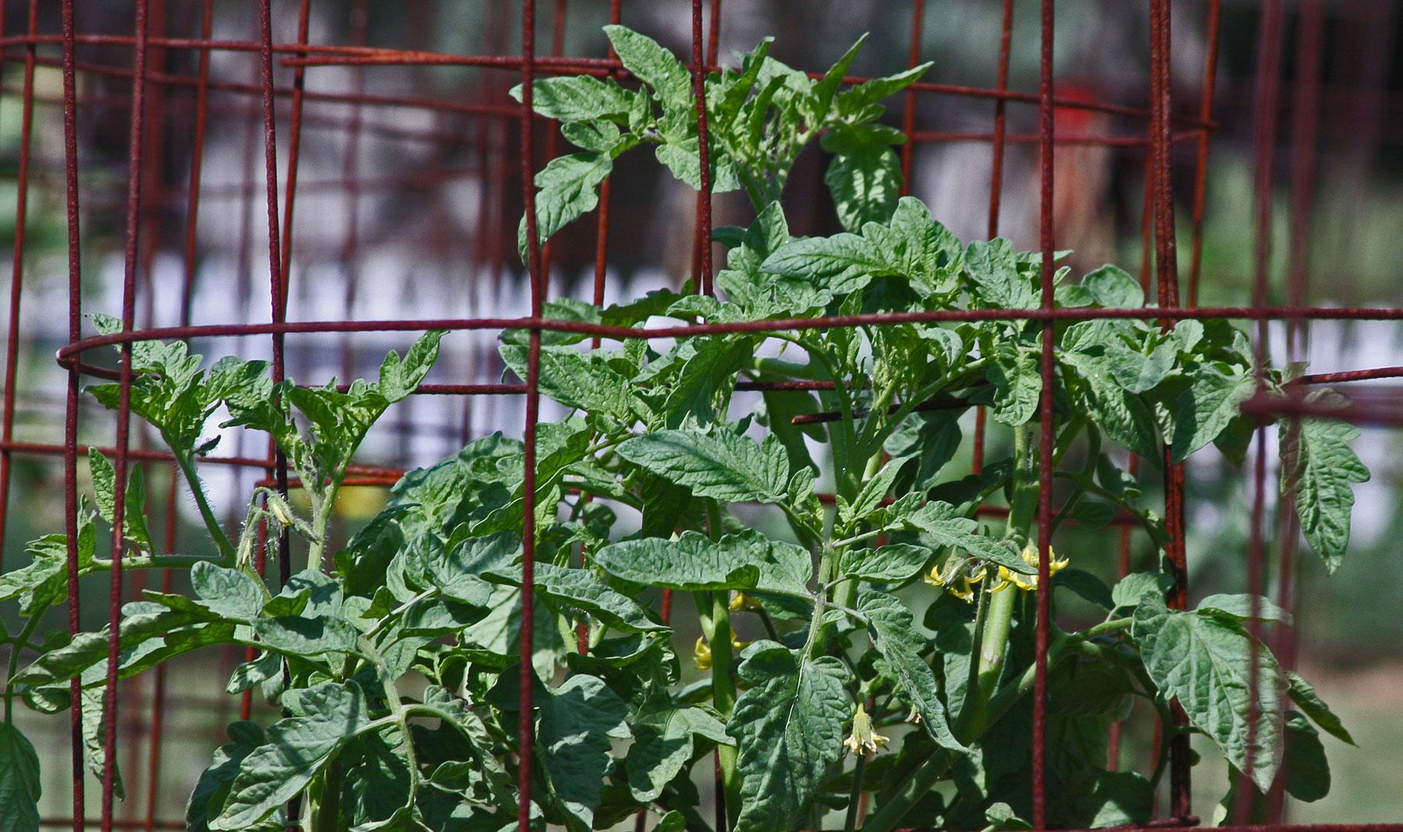Healthy: (510, 31, 1027, 832), (8, 311, 526, 832), (1105, 566, 1360, 813)
